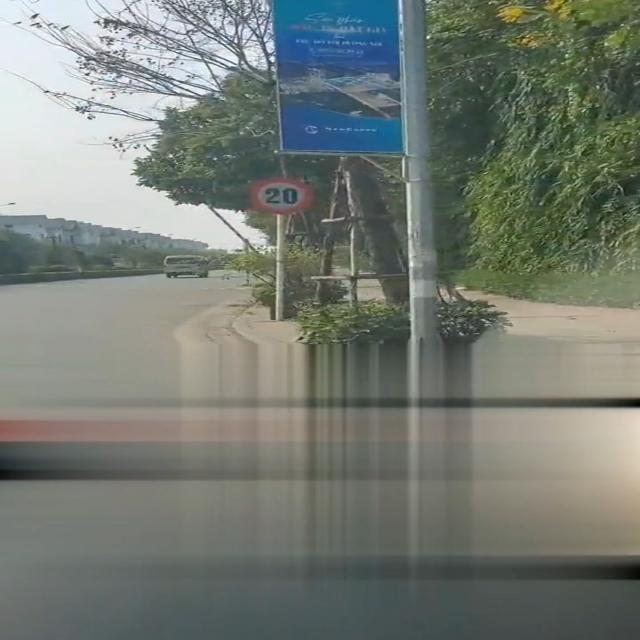127-toc-do-toi-da-20: (250, 176, 316, 212)
